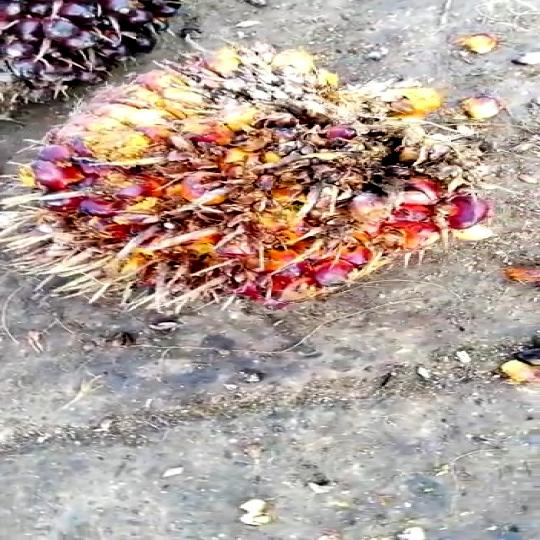masak: (4, 58, 512, 313)
